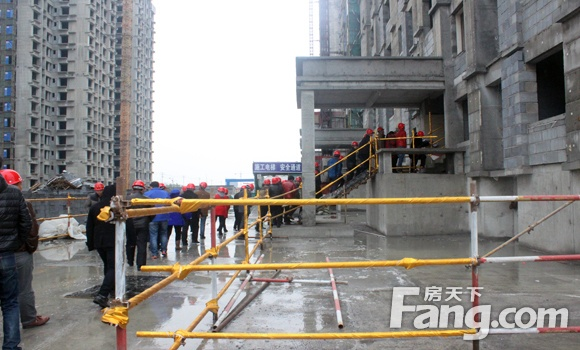none: (149, 180, 160, 191), (287, 174, 294, 182)
red: (1, 167, 23, 193), (131, 179, 145, 193), (93, 182, 105, 195), (185, 182, 195, 192), (199, 181, 207, 190), (271, 176, 279, 185), (217, 186, 225, 194), (333, 149, 340, 157), (366, 128, 373, 136), (376, 127, 384, 134), (398, 122, 405, 130), (416, 130, 424, 136), (351, 141, 357, 148)
